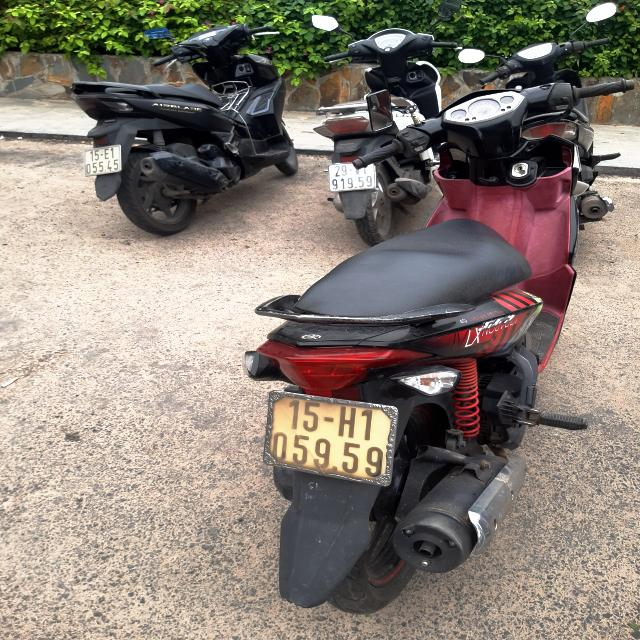license_plate: (261, 388, 399, 490)
